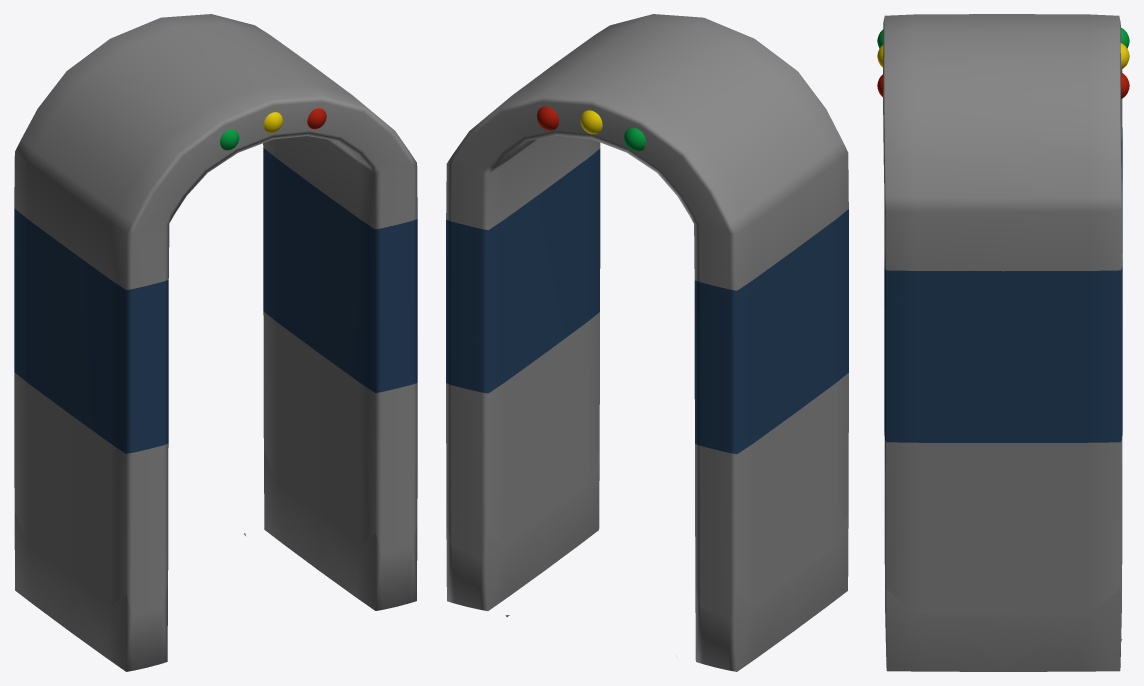
Rendered from Model_BodyScanner.fbx.
3 renders of one model, left to right at view 1: azimuth 30°, elevation 25°; view 2: azimuth 150°, elevation 25°; view 3: azimuth 270°, elevation 25°, orthographic. The views are drawn at different scales.
Parts seen in each view (by area): view 1: pCube5; view 2: pCube5; view 3: pCube5.
Part boxes in pixels (x1,y1,x2,y2): pCube5: (14,14,417,671); pCube5: (446,14,848,671); pCube5: (877,14,1129,671).
Size of the model in its own units: 143 by 252 by 101.
